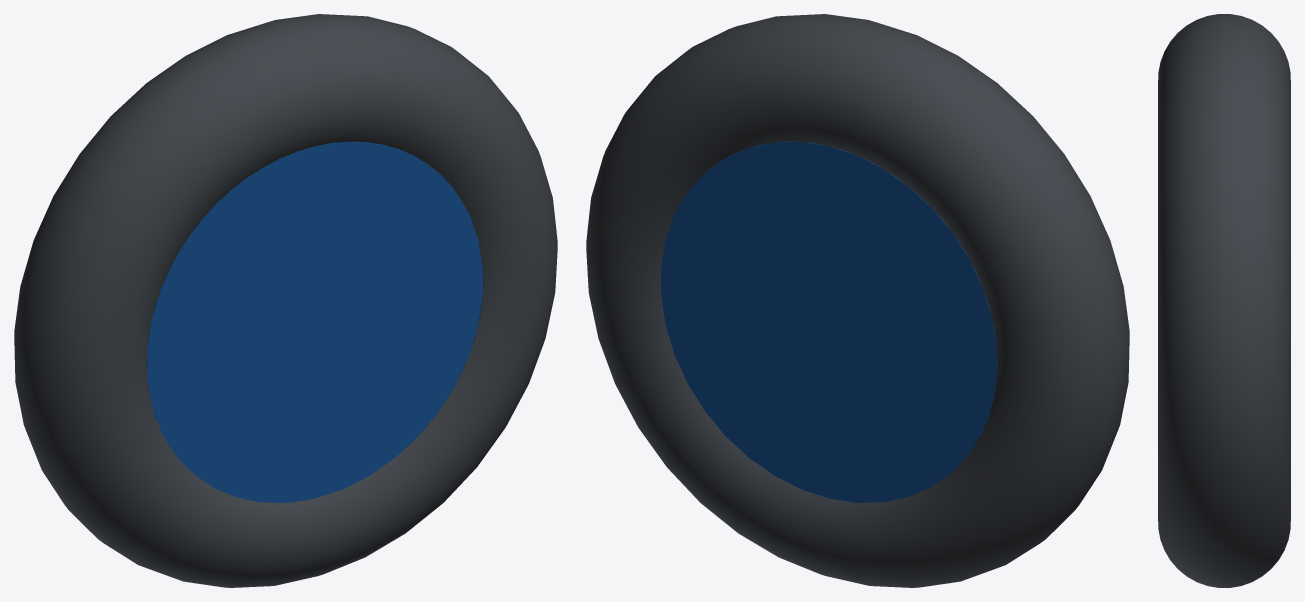
File: front_wheel.dae
The picture shows the model from 3 angles, left to right: view 1: azimuth 30°, elevation 25°; view 2: azimuth 150°, elevation 25°; view 3: azimuth 270°, elevation 25°; orthographic projection. The views are drawn at different scales.
Visible parts, largest first — view 1: Part 1 (×2); view 2: Part 1 (×2); view 3: Part 1.
Boxes of the visible parts, box(x1,y1,x2,y2) form: Part 1 (×2): box(14, 14, 557, 587); Part 1 (×2): box(586, 14, 1129, 587); Part 1: box(1158, 14, 1290, 587).
Bounding box in the file's own units: 0.2026 × 0.0469 × 0.2026.
